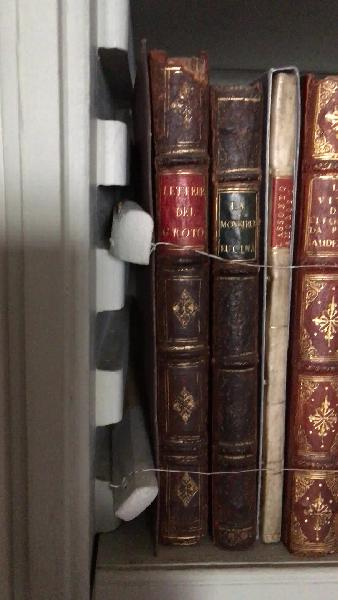Aa6-1: (143, 24, 215, 549)
Aa6-2: (201, 60, 261, 548)
Aa6-3: (258, 47, 298, 551)
Aa6-4: (291, 57, 338, 563)
